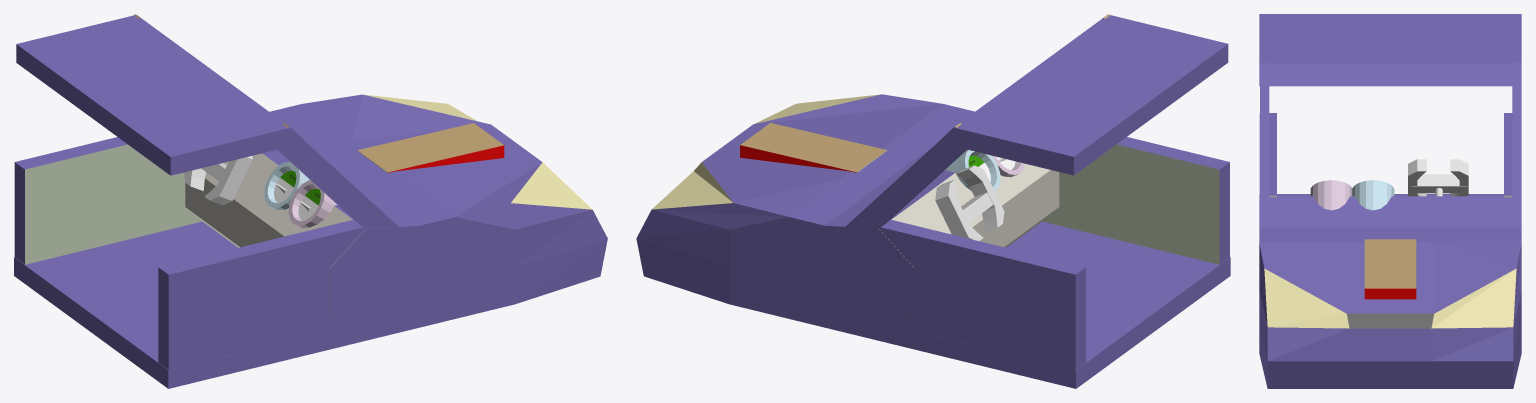
The model's file is mscarNew.dae.
3 renders of one model, left to right at view 1: azimuth 30°, elevation 25°; view 2: azimuth 150°, elevation 25°; view 3: azimuth 270°, elevation 25°, orthographic. The views are drawn at different scales.
Visible parts, largest first — view 1: maska_Material__77, dach_Material__77, drzwiLewe_Material__7, pod_oga_Material__77, drzwiPrawe_Materi, maska_Material__75, akcent_Material__50, wspornikle_Material__, maska_Material__74, drzwiPrawe_Material__, Box02_None, czas_Material__49 (+2 smaller); view 2: maska_Material__77, dach_Material__77, drzwiPrawe_Material__, pod_oga_Material__77, drzwiLewe_Materia, maska_Material__75, wspornikpr_Material__, akcent_Material__50, maska_Material__74, drzwiLewe_Material__7, Box01_None, Box02_None (+3 smaller); view 3: maska_Material__77, dach_Material__77, maska_Material__74, akcent_Material__50, maska_Material__79, wspornikpr_Material__, wspornikle_Material__, czas_Material__49, zegar_Material__38, Box03_None, drzwiLewe_Material__7, drzwiPrawe_Material__ (+4 smaller).
Part boxes in pixels (x1=…): maska_Material__77: x1=263, y1=94, x2=607, y2=340; dach_Material__77: x1=16, y1=15, x2=306, y2=175; drzwiLewe_Material__7: x1=158, y1=219, x2=367, y2=369; pod_oga_Material__77: x1=14, y1=221, x2=365, y2=388; drzwiPrawe_Materi: x1=25, y1=144, x2=201, y2=264; maska_Material__75: x1=185, y1=153, x2=365, y2=311; akcent_Material__50: x1=357, y1=123, x2=503, y2=172; wspornikle_Material__: x1=277, y1=127, x2=398, y2=228; maska_Material__74: x1=364, y1=94, x2=592, y2=209; drzwiPrawe_Material__: x1=14, y1=137, x2=127, y2=264; Box02_None: x1=204, y1=156, x2=252, y2=205; czas_Material__49: x1=288, y1=180, x2=337, y2=228; maska_Material__77: x1=636, y1=94, x2=974, y2=341; dach_Material__77: x1=938, y1=14, x2=1228, y2=175; drzwiPrawe_Material__: x1=879, y1=219, x2=1085, y2=369; pod_oga_Material__77: x1=881, y1=221, x2=1230, y2=388; drzwiLewe_Materia: x1=1042, y1=144, x2=1219, y2=264; maska_Material__75: x1=879, y1=163, x2=1059, y2=266; wspornikpr_Material__: x1=831, y1=127, x2=970, y2=258; akcent_Material__50: x1=740, y1=123, x2=886, y2=172; maska_Material__74: x1=652, y1=94, x2=880, y2=209; drzwiLewe_Material__7: x1=1117, y1=137, x2=1229, y2=264; Box01_None: x1=935, y1=179, x2=983, y2=240; Box02_None: x1=956, y1=165, x2=1004, y2=232; maska_Material__77: x1=1259, y1=196, x2=1521, y2=388; dach_Material__77: x1=1259, y1=14, x2=1521, y2=86; maska_Material__74: x1=1264, y1=268, x2=1516, y2=328; akcent_Material__50: x1=1364, y1=239, x2=1416, y2=288; maska_Material__79: x1=1347, y1=313, x2=1433, y2=328; wspornikpr_Material__: x1=1512, y1=62, x2=1521, y2=215; wspornikle_Material__: x1=1260, y1=62, x2=1269, y2=215; czas_Material__49: x1=1310, y1=180, x2=1352, y2=210; zegar_Material__38: x1=1352, y1=180, x2=1394, y2=210; Box03_None: x1=1411, y1=174, x2=1467, y2=193; drzwiLewe_Material__7: x1=1259, y1=113, x2=1276, y2=195; drzwiPrawe_Material__: x1=1504, y1=113, x2=1512, y2=195.
Bounding box in the file's own units: 4.91 × 2.95 × 2.45.
11 materials, 2 textured.
